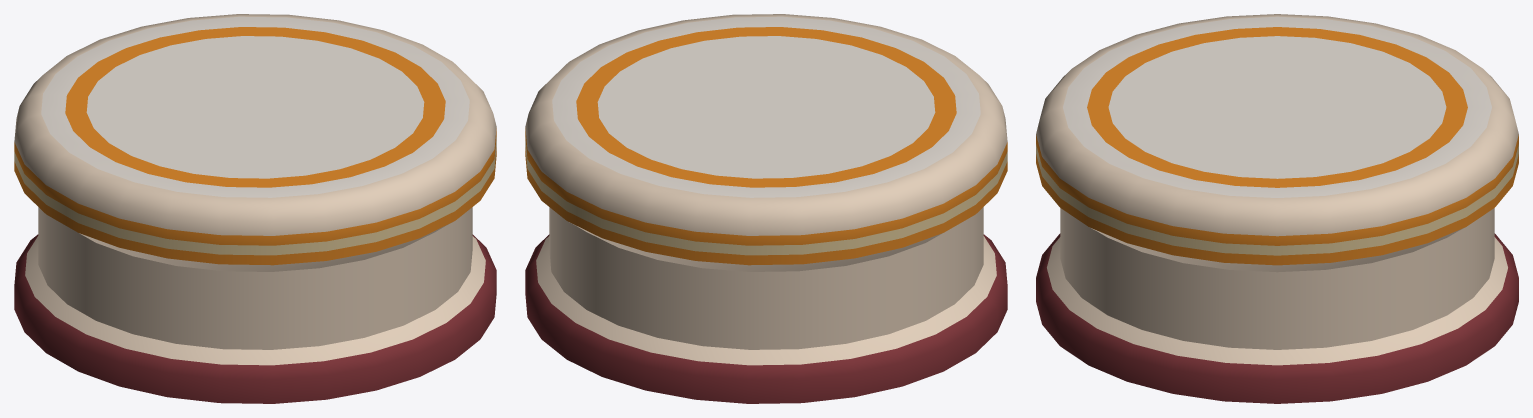
File: citrus-podium.glb
3 views of the same model, side by side, from view 1: azimuth 30°, elevation 25°; view 2: azimuth 150°, elevation 25°; view 3: azimuth 270°, elevation 25° (orthographic).
Parts seen in each view (by area): view 1: citrus-podium; view 2: citrus-podium; view 3: citrus-podium.
Part boxes in pixels (left/top/right/bottom): citrus-podium: left=14, top=14, right=496, bottom=403; citrus-podium: left=525, top=14, right=1007, bottom=403; citrus-podium: left=1036, top=14, right=1518, bottom=403.
Bounding box in the file's own units: 0.9 × 0.4 × 0.9.
